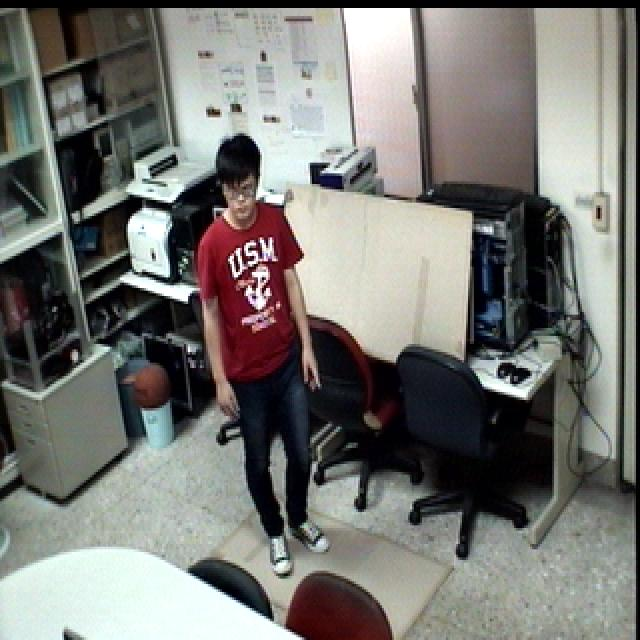stand: (193, 128, 340, 590)
